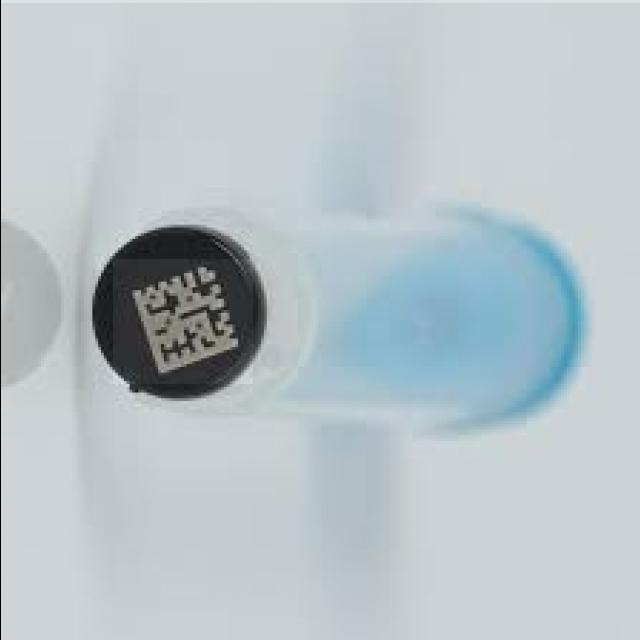DataMatrix: (111, 259, 252, 384)
